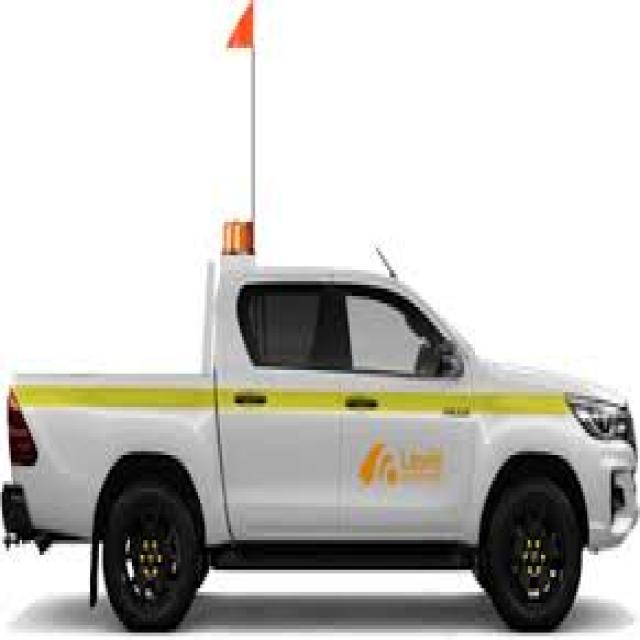light_vehicle: (0, 211, 638, 636)
